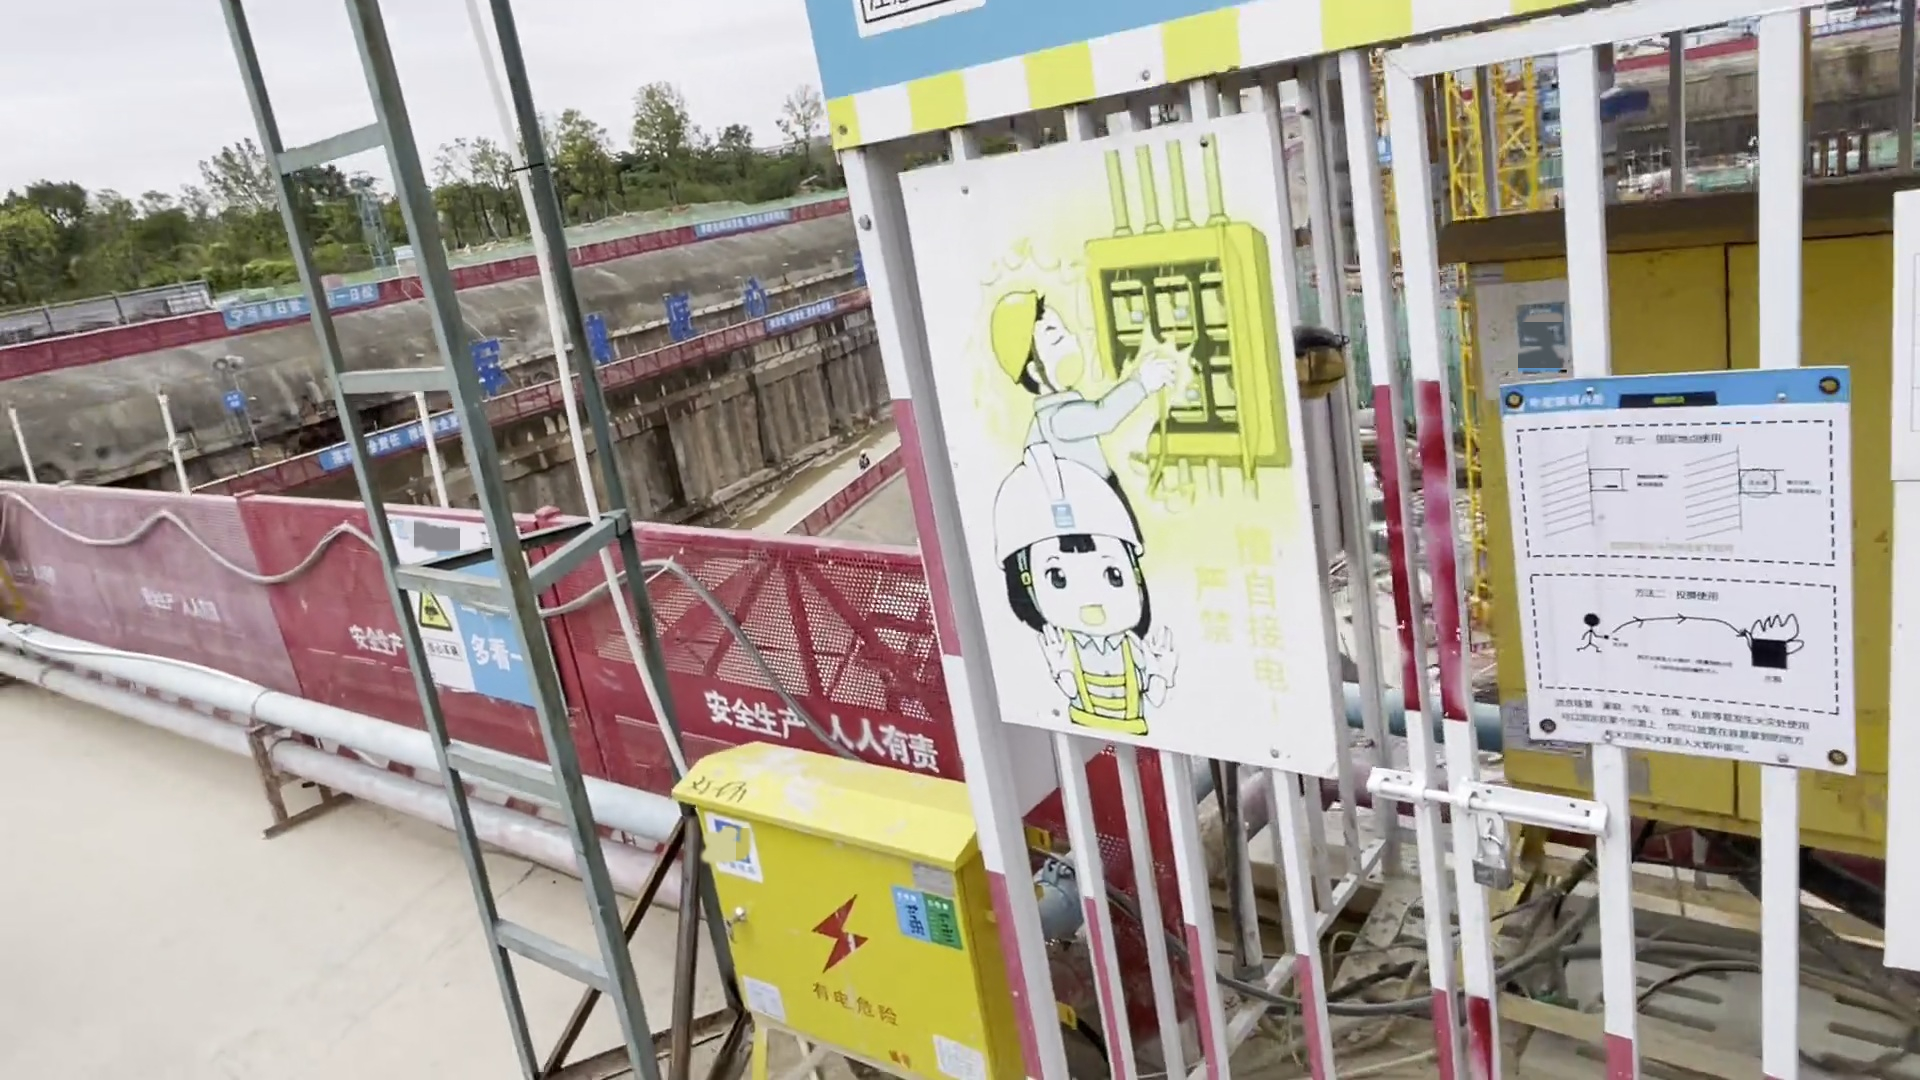ebox: (671, 731, 1040, 1079)
fence: (1, 521, 928, 723)
slogan: (884, 113, 1352, 793), (382, 504, 566, 731), (318, 405, 488, 487), (211, 286, 385, 345)
